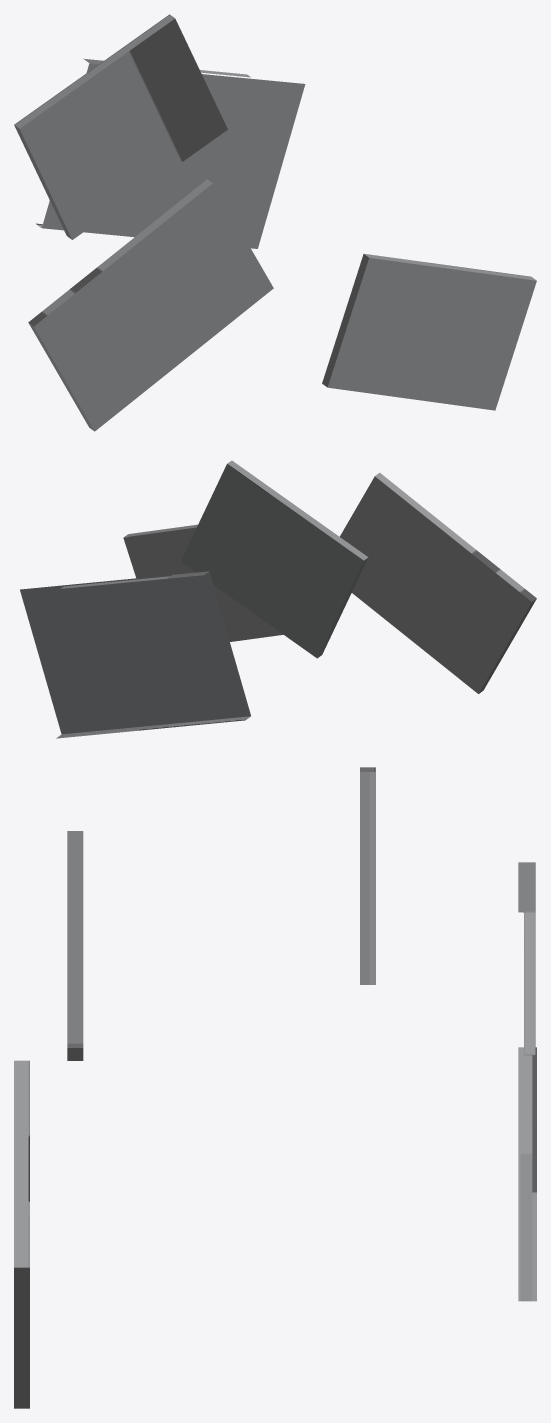
The picture shows the model from 3 angles, top to bottom: view 1: azimuth 30°, elevation 25°; view 2: azimuth 150°, elevation 25°; view 3: azimuth 270°, elevation 25°; orthographic projection. The views are drawn at different scales.
Bounding box in the file's own units: 0.4656 × 0.3228 × 0.3065.
